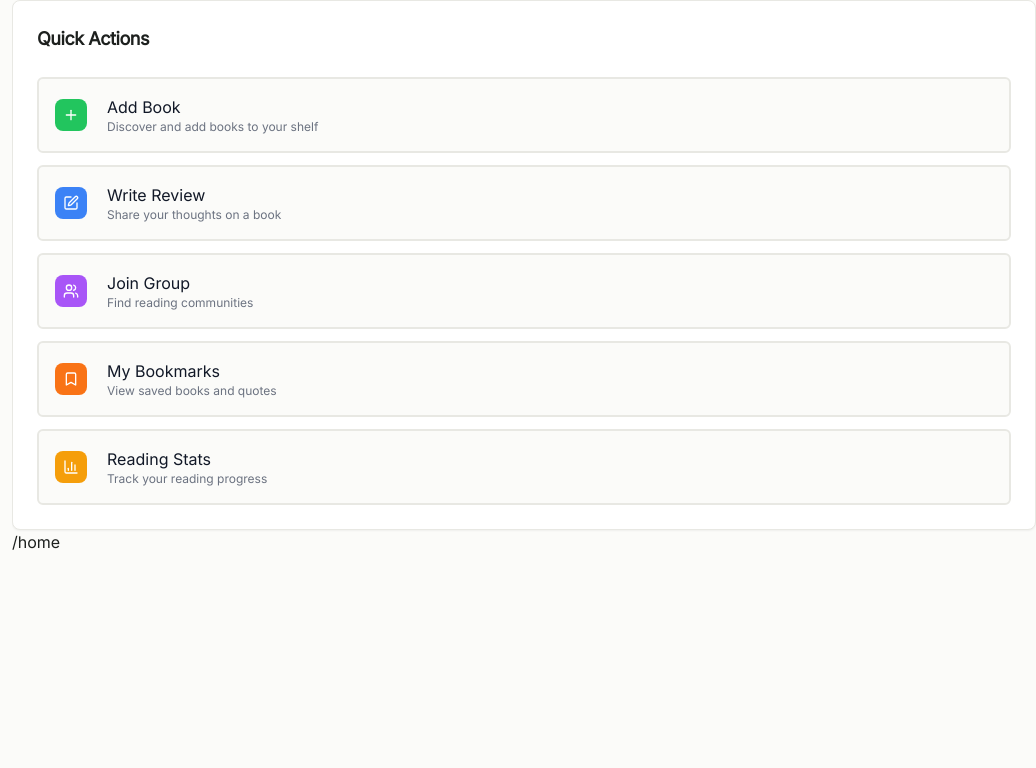
Test: QuickActionsPanel › navigates to the correct destination for My Bookmarks
Click the button "My Bookmarks View saved books and quotes".
click(71, 379)  # box x1=37 y1=341 x2=1011 y2=417
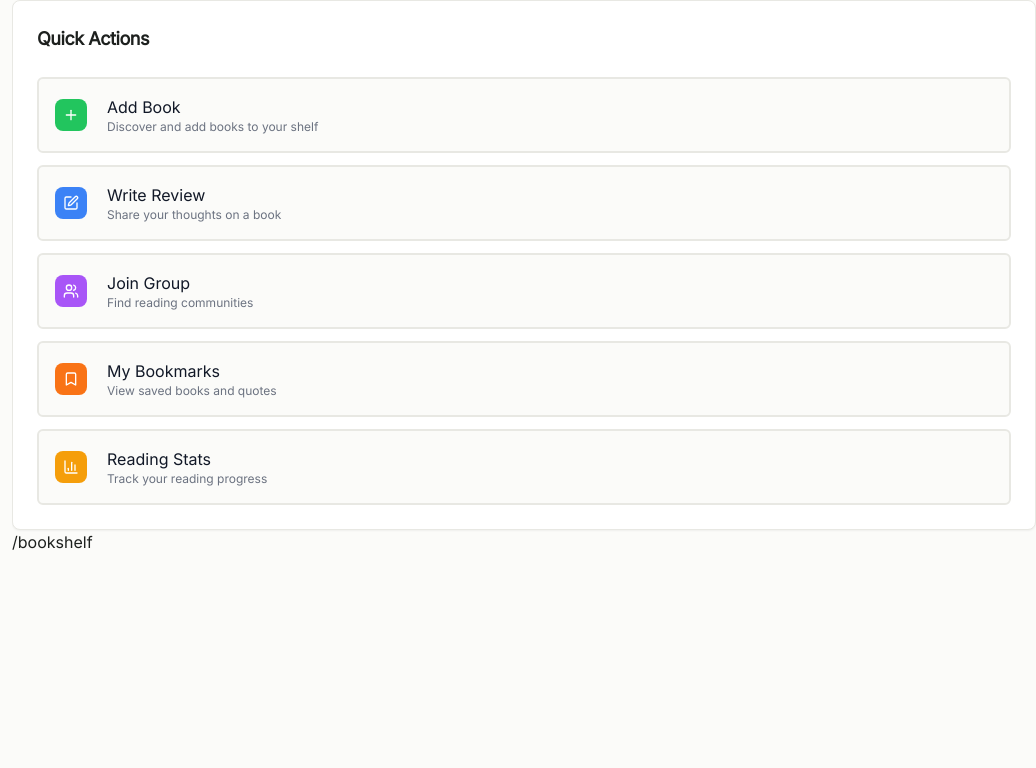
Expected: the text named "current route" reads "/bookshelf", x1=12 y1=532 x2=93 y2=552
